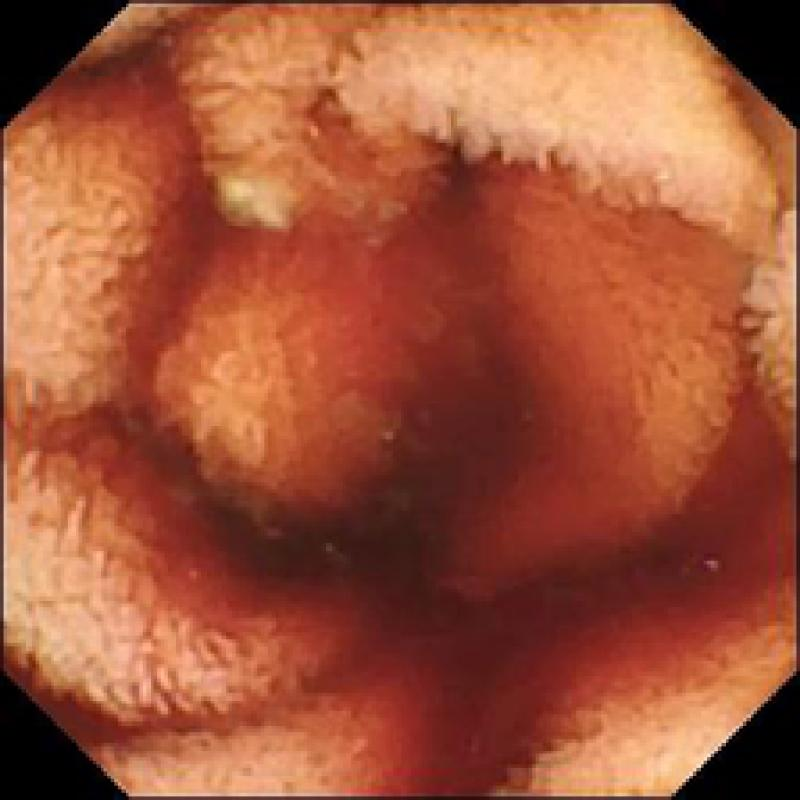bleeding: (107, 218, 789, 800)
